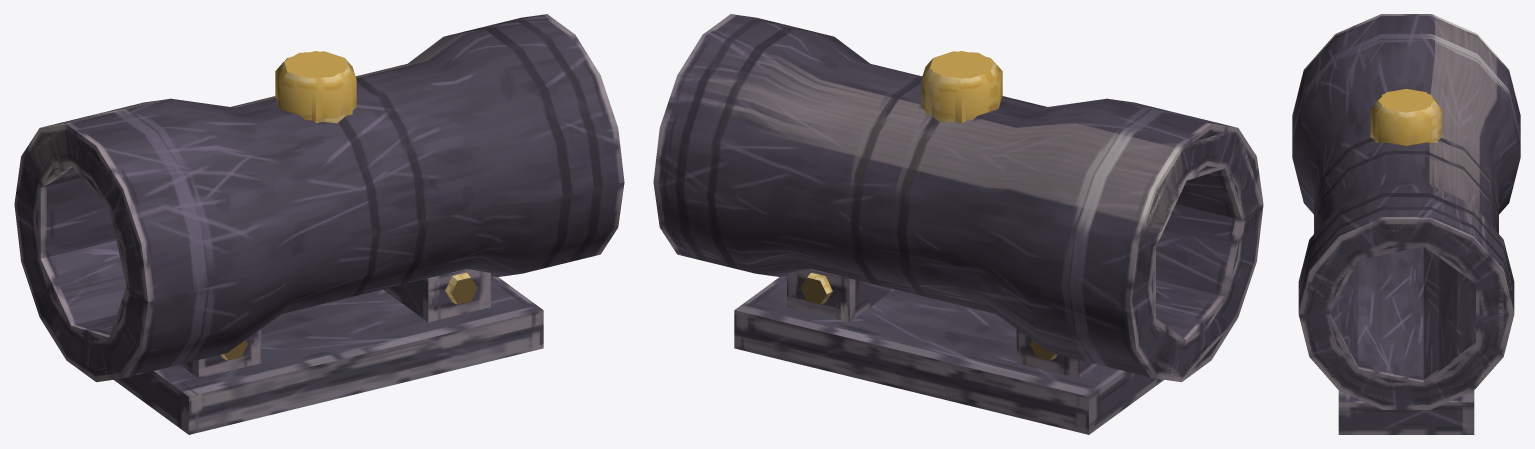
File: att_scope.bundle.fbx
3 renders of one model, left to right at view 1: azimuth 30°, elevation 25°; view 2: azimuth 150°, elevation 25°; view 3: azimuth 270°, elevation 25°, orthographic. The views are drawn at different scales.
Parts seen in each view (by area): view 1: att_scope, att_scope_low; view 2: att_scope, att_scope_low; view 3: att_scope, att_scope_low.
Part boxes in pixels (x1,y1,x2,y2): att_scope: (14, 14, 624, 424); att_scope_low: (21, 51, 543, 434); att_scope: (653, 14, 1263, 424); att_scope_low: (734, 51, 1262, 434); att_scope: (1292, 14, 1520, 434); att_scope_low: (1299, 89, 1503, 434).
Size of the model in its own units: 0.345 by 0.2063 by 0.1665.
Materials: 1 (1 with a texture image).
